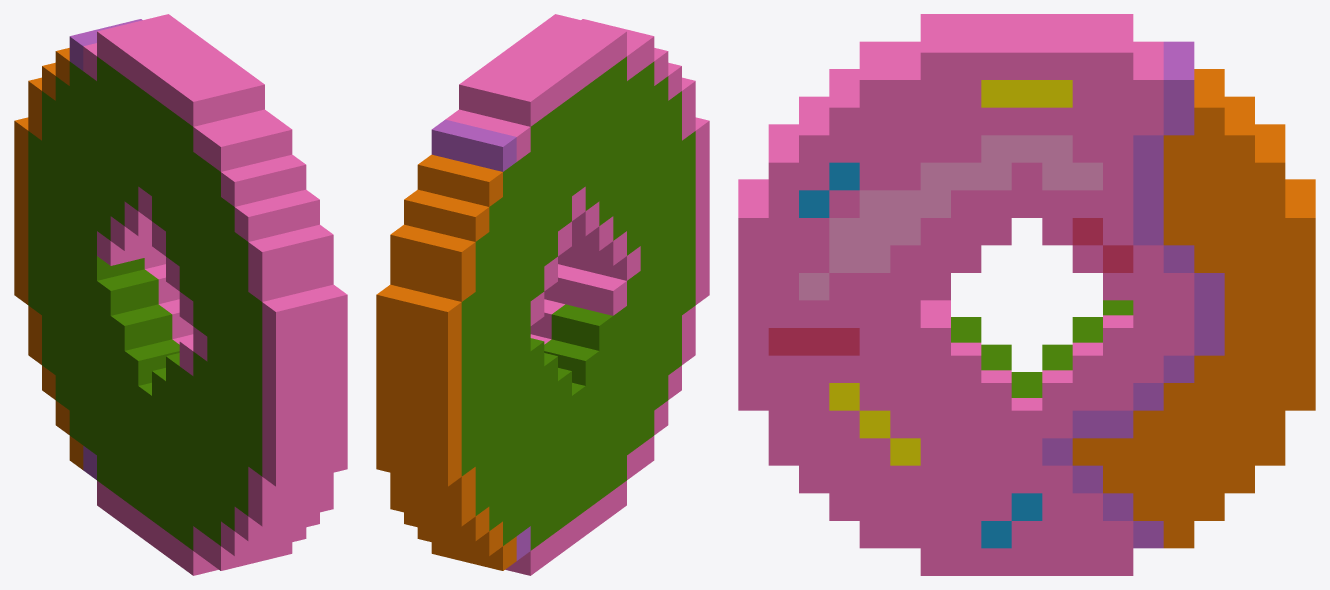
Rendered from Eruption-25.obj.
3 renders of one model, left to right at view 1: azimuth 30°, elevation 25°; view 2: azimuth 150°, elevation 25°; view 3: azimuth 270°, elevation 25°, orthographic. The views are drawn at different scales.
Bounding box in the file's own units: 0.3 × 1.9 × 1.9.
Materials: 1 (1 with a texture image).
